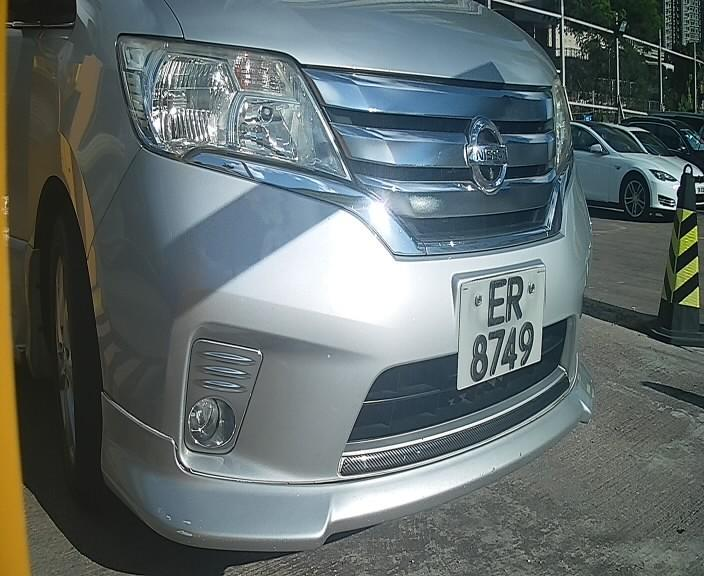Car: (45, 8, 632, 566)
License Plate: (447, 253, 551, 397)
